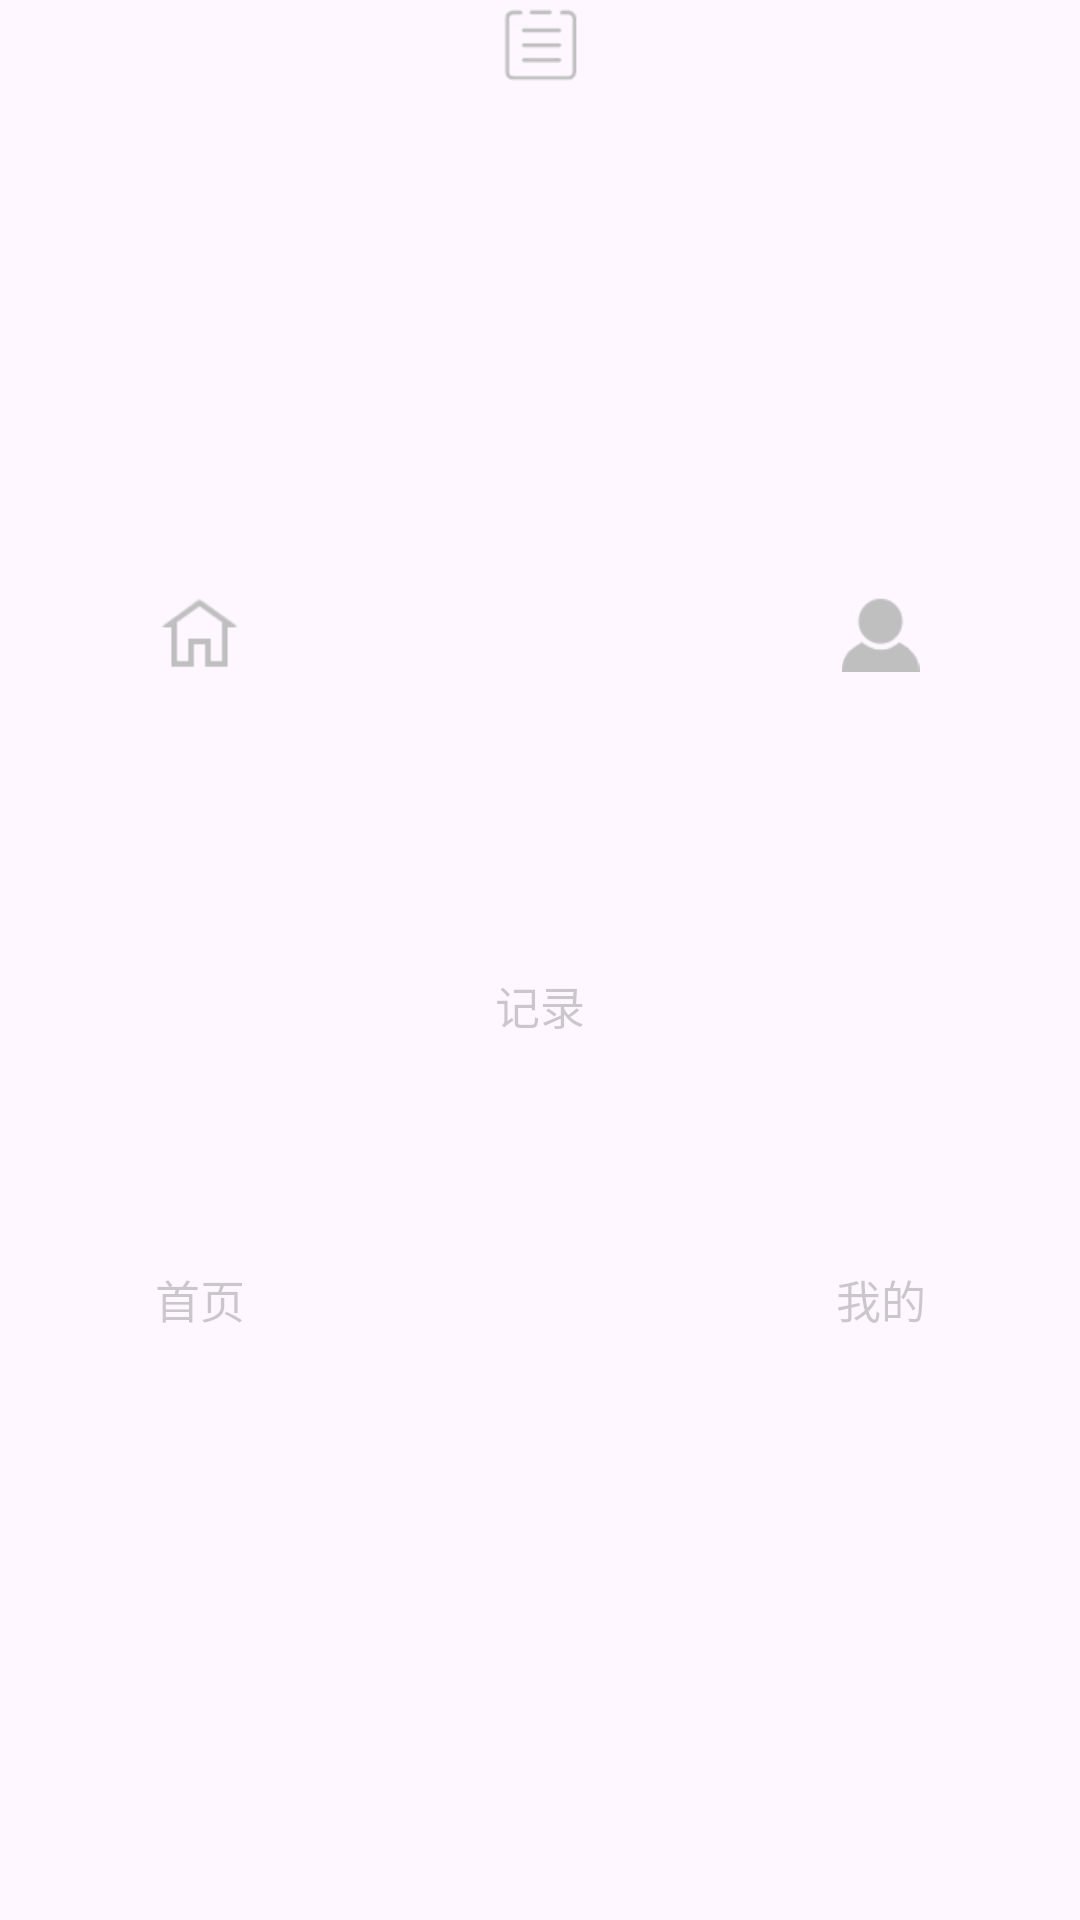

Named icons in this screenshot (1080x1920) and their centers, point (x, y):
sel history: point (540, 45)
sel home: point (199, 633)
sel mine: point (881, 635)
